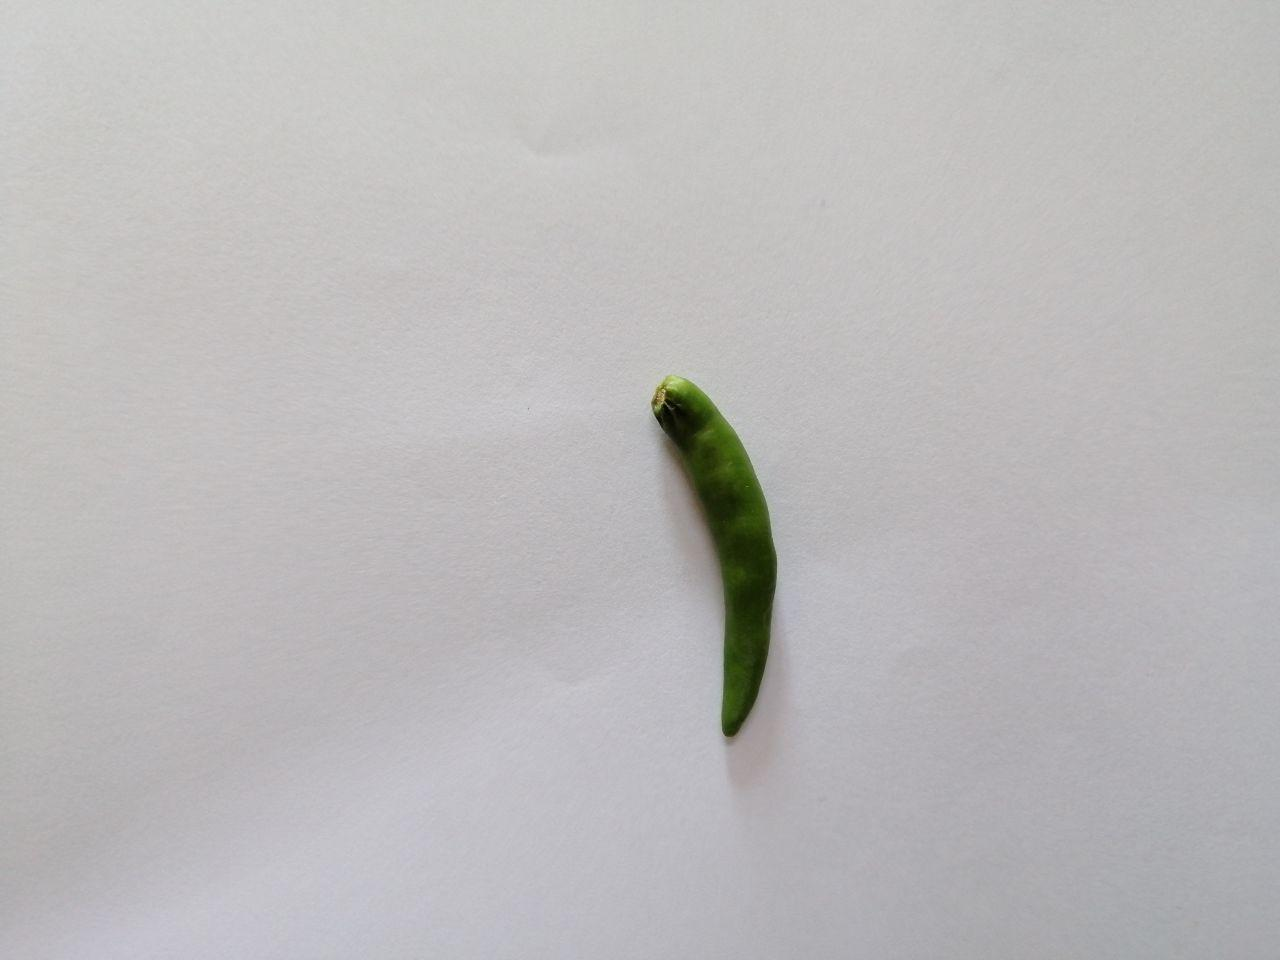lada hijau: (627, 359, 803, 762)
